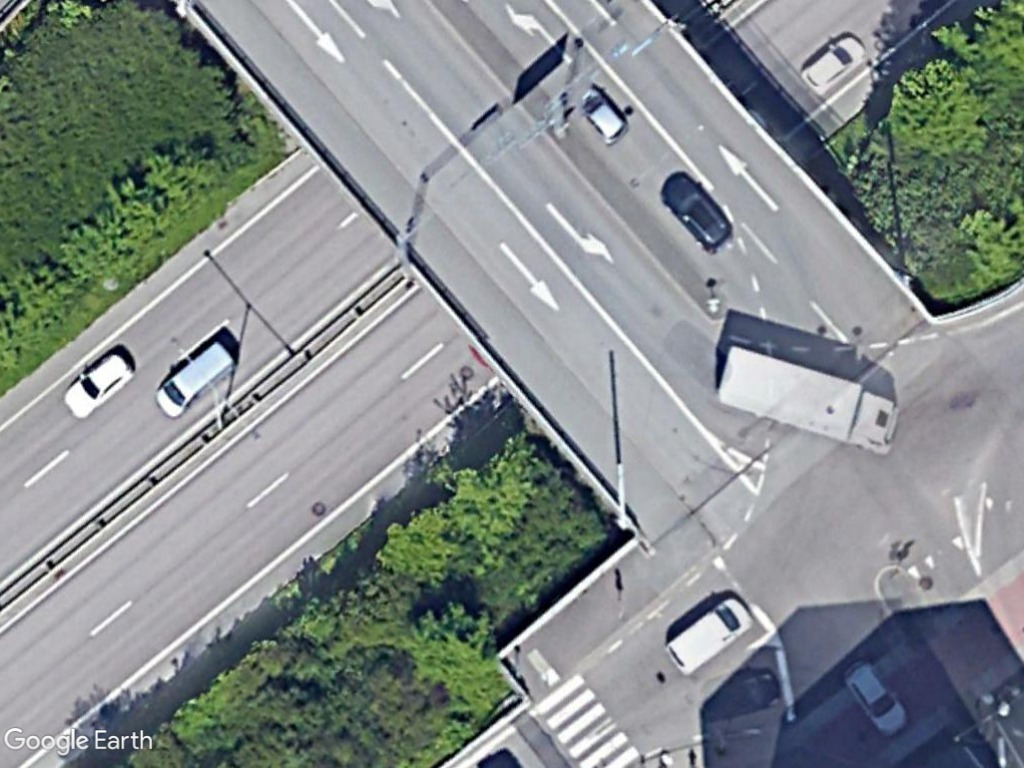car: (655, 167, 737, 255), (54, 345, 137, 421), (840, 654, 912, 740), (793, 28, 867, 96)
truck: (714, 339, 910, 464)
van: (656, 591, 764, 684), (149, 336, 238, 422)
